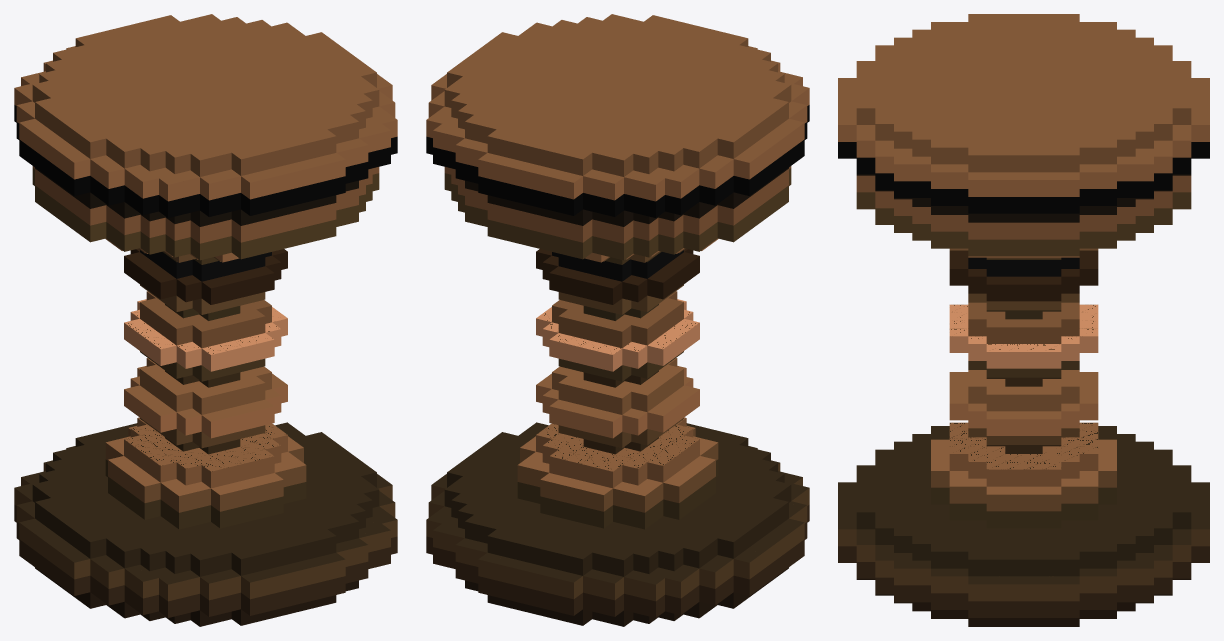
File: SMRT_stand.obj
The picture shows the model from 3 angles, left to right: view 1: azimuth 30°, elevation 25°; view 2: azimuth 150°, elevation 25°; view 3: azimuth 270°, elevation 25°; orthographic projection.
Parts seen in each view (by area): view 1: TorchFlame; view 2: TorchFlame; view 3: TorchFlame.
Boxes of the visible parts, x1,y1,x2,y2 form: TorchFlame: (14,14,397,626); TorchFlame: (426,14,809,626); TorchFlame: (838,14,1209,626).
Bounding box in the file's own units: 0.7143 × 1 × 0.7143.
1 material, 1 textured.
